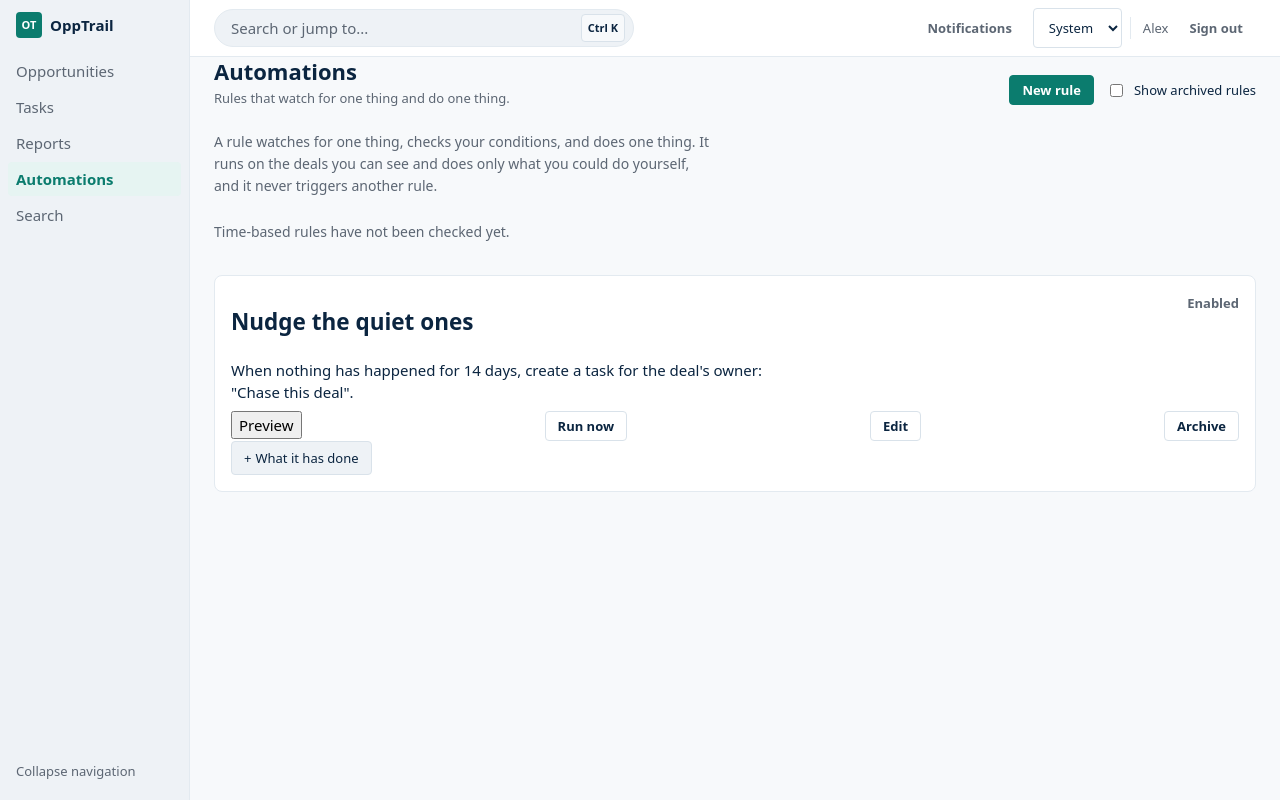
Test: the run log › says plainly when a rule has not done anything
Expected: the heading "Automations" is shown, [214,56,357,86]
Step 1. Click the button "+ What it has done" → (301, 458), box [231,441,372,475]
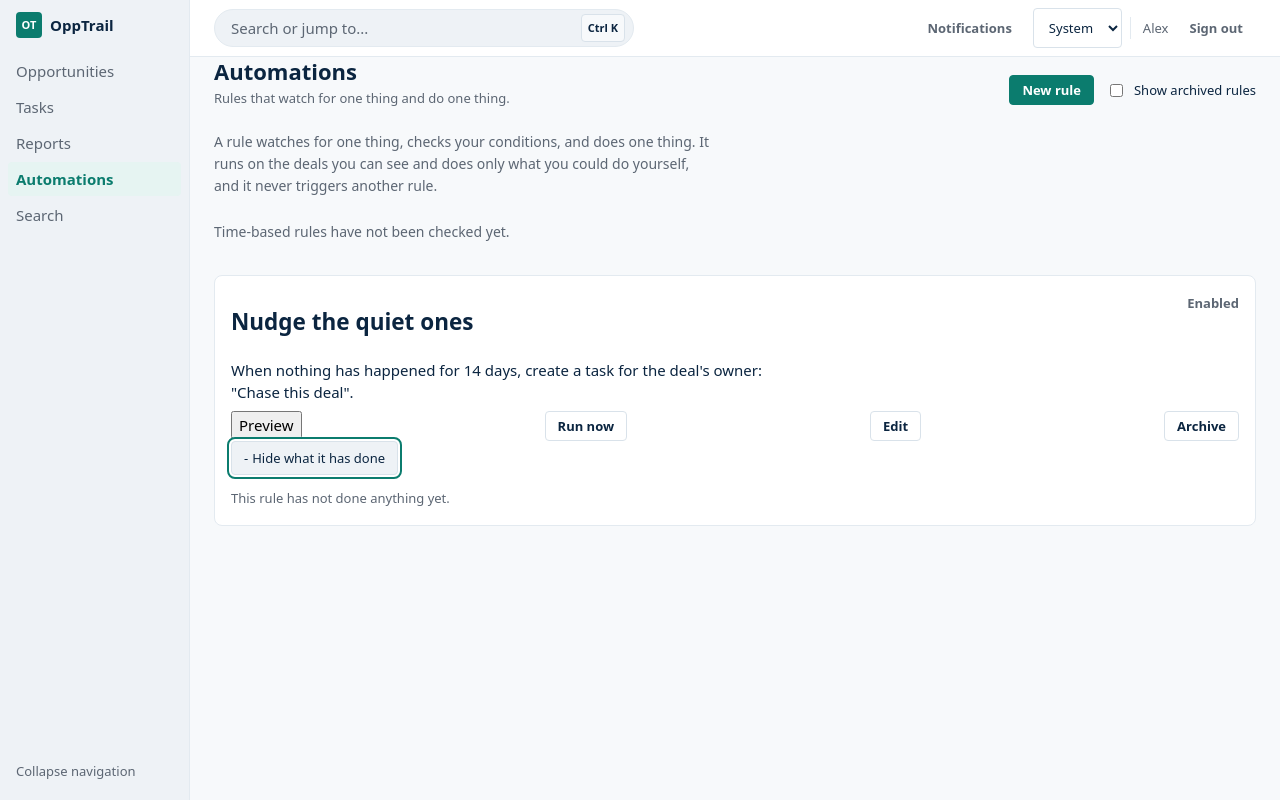
Now the text "This rule has not done anything yet." is shown, box [231,489,450,507]
